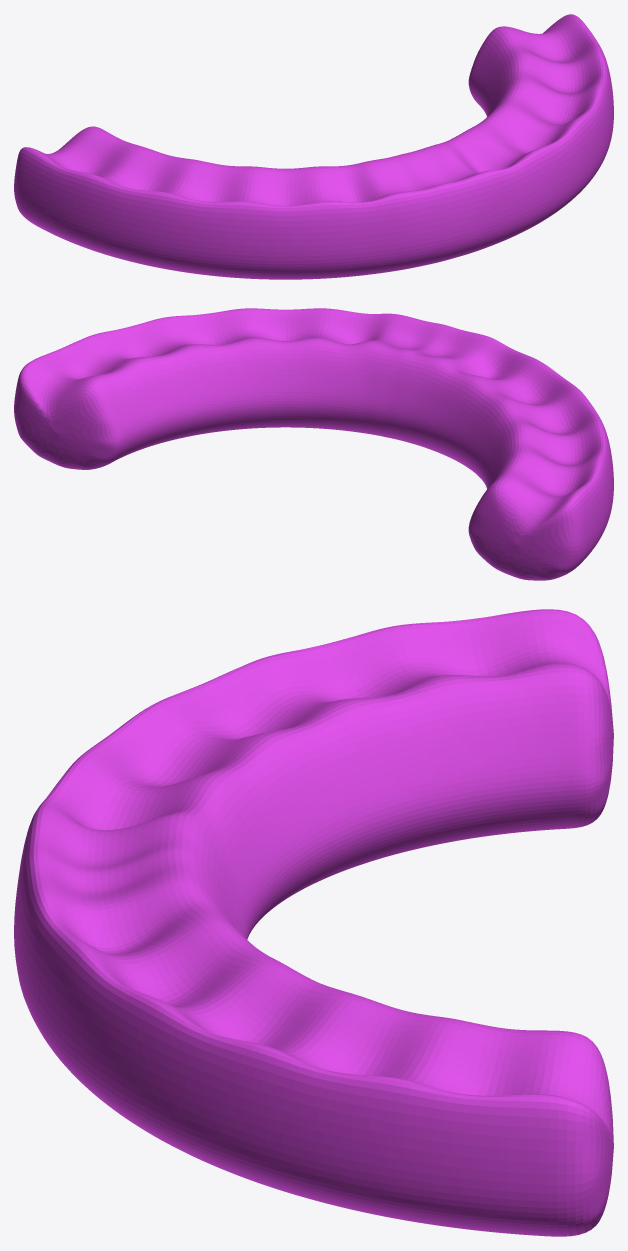
Rendered from jaw.glb.
The picture shows the model from 3 angles, top to bottom: view 1: azimuth 30°, elevation 25°; view 2: azimuth 150°, elevation 25°; view 3: azimuth 270°, elevation 25°; orthographic projection. The views are drawn at different scales.
Parts seen in each view (by area): view 1: Torus.001; view 2: Torus.001; view 3: Torus.001.
Part boxes in pixels (x1,y1,x2,y2): Torus.001: (14,14,613,279); Torus.001: (14,308,613,580); Torus.001: (14,609,613,1236).
Bounding box in the file's own units: 2.46 × 0.3839 × 1.23.
